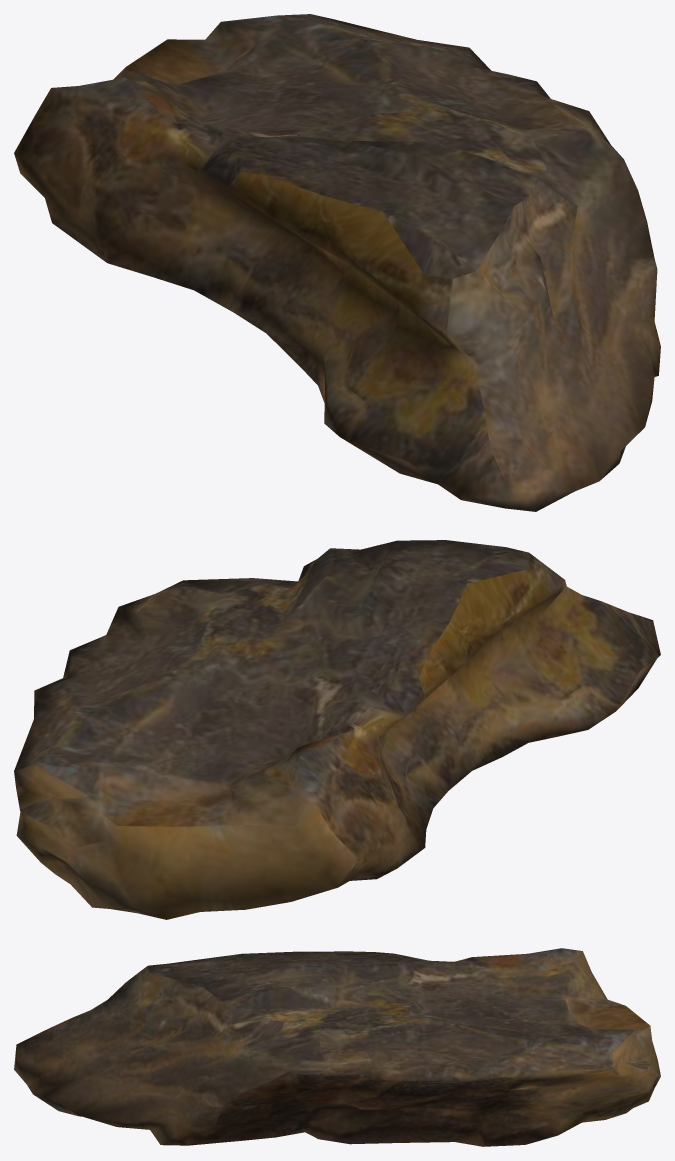
Rendered from rock_b.glb.
3 views of the same model, one above another, from view 1: azimuth 30°, elevation 25°; view 2: azimuth 150°, elevation 25°; view 3: azimuth 270°, elevation 25° (orthographic). The views are drawn at different scales.
Parts seen in each view (by area): view 1: rock_b; view 2: rock_b; view 3: rock_b.
Part boxes in pixels (x1,y1,x2,y2): rock_b: (14, 14, 660, 511); rock_b: (14, 540, 660, 919); rock_b: (14, 948, 660, 1146).
Size of the model in its own units: 0.0742 by 0.0332 by 0.1441.
Materials: 1 (1 with a texture image).
